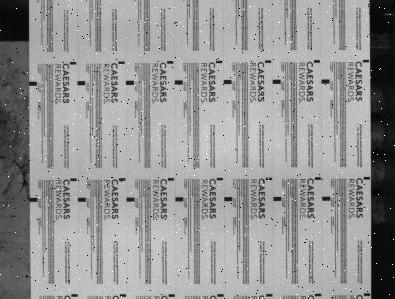qblock: (126, 81, 134, 86), (77, 81, 85, 86), (224, 80, 232, 85), (78, 198, 86, 203), (274, 197, 282, 202), (29, 82, 37, 87), (323, 197, 331, 202), (29, 198, 37, 203), (273, 80, 282, 84), (322, 80, 330, 84), (175, 81, 183, 85), (127, 198, 135, 202), (176, 198, 184, 202), (225, 198, 233, 202)
smallqblock: (266, 294, 273, 298), (168, 61, 174, 65), (71, 178, 77, 182), (119, 178, 125, 182), (266, 178, 273, 181), (363, 60, 370, 63), (168, 178, 175, 181), (217, 178, 224, 181), (364, 177, 371, 180), (71, 295, 78, 298), (169, 295, 176, 298), (218, 295, 225, 298), (364, 294, 371, 297), (70, 62, 76, 65), (266, 61, 272, 64), (217, 61, 223, 64), (316, 294, 322, 297), (120, 295, 126, 298), (119, 62, 125, 65), (314, 61, 321, 63), (315, 178, 321, 180)
